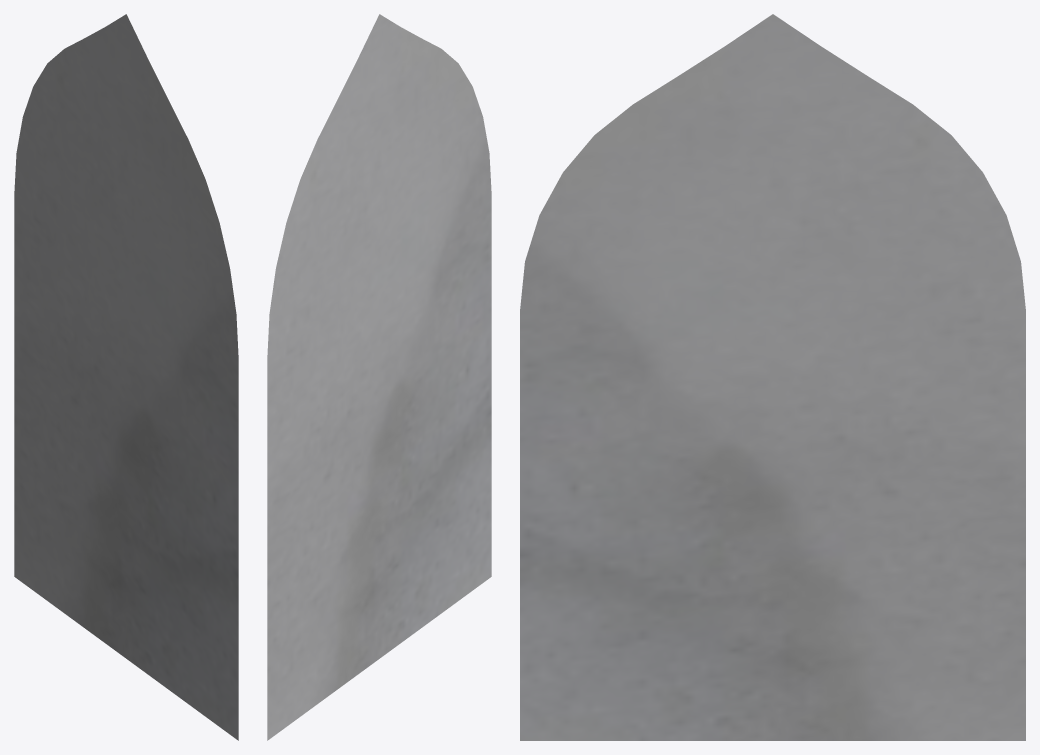
The model's file is Gate.glb.
The picture shows the model from 3 angles, left to right: view 1: azimuth 30°, elevation 25°; view 2: azimuth 150°, elevation 25°; view 3: azimuth 270°, elevation 25°; orthographic projection. The views are drawn at different scales.
Parts seen in each view (by area): view 1: gate; view 2: gate; view 3: gate.
Boxes of the visible parts, x1=… form: gate: x1=14, y1=14, x2=238, y2=740; gate: x1=267, y1=14, x2=491, y2=740; gate: x1=520, y1=14, x2=1025, y2=740.
Size of what is drawn, in the model's own units: 0 by 4.87 by 3.07.
Materials: 1 (1 with a texture image).
